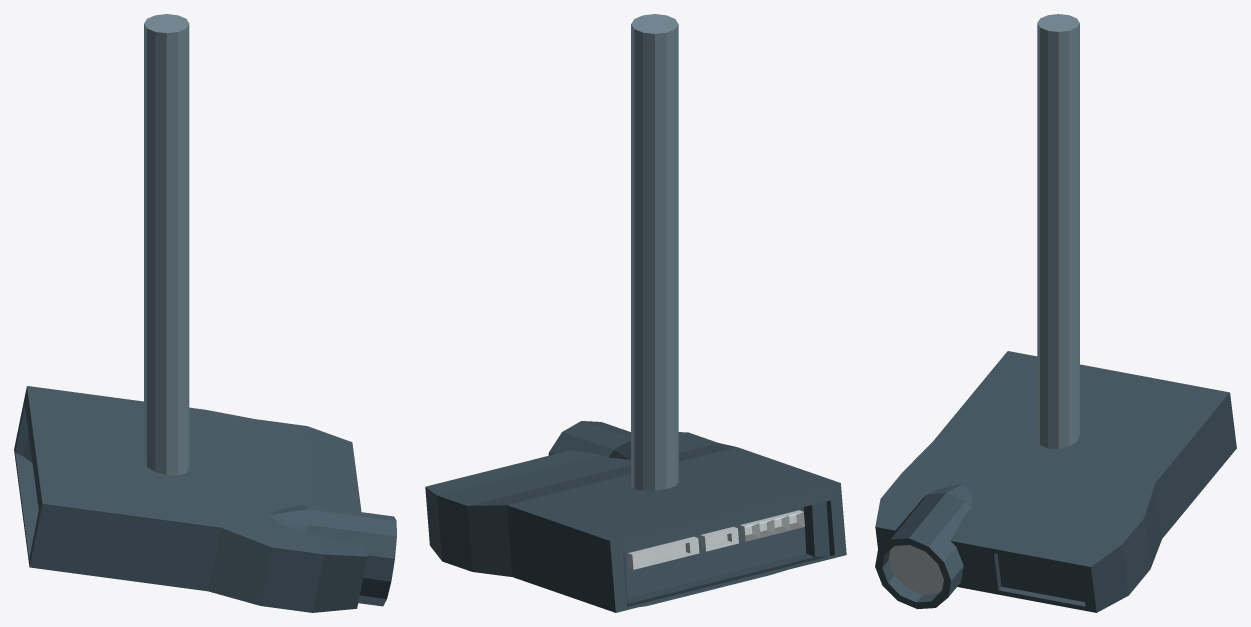
Rendered from projector.glb.
3 views of the same model, side by side, from view 1: azimuth 30°, elevation 25°; view 2: azimuth 150°, elevation 25°; view 3: azimuth 270°, elevation 25° (orthographic). The views are drawn at different scales.
Visible parts, largest first — view 1: group250023242, group2107329488; view 2: group250023242, group2107329488; view 3: group250023242, group2107329488.
Boxes of the visible parts, <box> form: group250023242: <box>14,386,396,612</box>; group2107329488: <box>144,14,189,475</box>; group250023242: <box>425,421,846,612</box>; group2107329488: <box>631,14,678,490</box>; group250023242: <box>875,351,1236,612</box>; group2107329488: <box>1037,14,1079,449</box>.
Bounding box in the file's own units: 0.5541 × 0.811 × 0.509.
